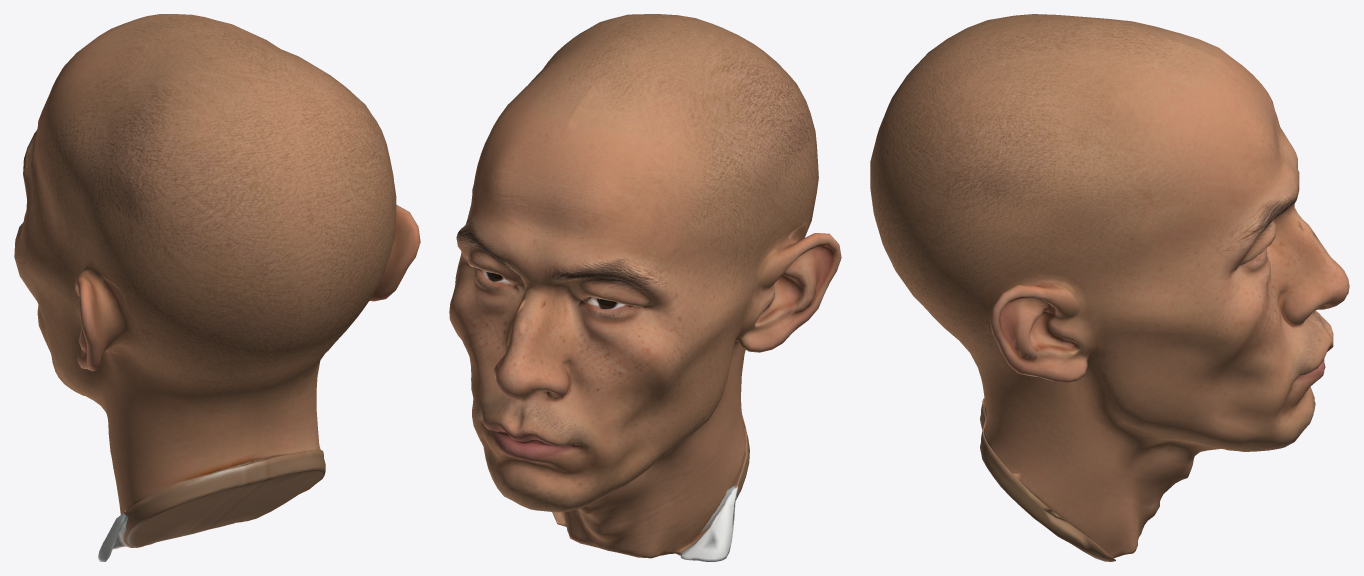
The model's file is Model_HairHead_HeYoutian.glb.
3 renders of one model, left to right at view 1: azimuth 30°, elevation 25°; view 2: azimuth 150°, elevation 25°; view 3: azimuth 270°, elevation 25°, orthographic. The views are drawn at different scales.
Visible parts, largest first — view 1: HairHead_HeYoutian; view 2: HairHead_HeYoutian; view 3: HairHead_HeYoutian.
Boxes of the visible parts, <box> form: HairHead_HeYoutian: <box>14,14,420,561</box>; HairHead_HeYoutian: <box>449,14,841,561</box>; HairHead_HeYoutian: <box>870,14,1349,561</box>.
Size of the model in its own units: 0.2127 by 0.3062 by 0.2618.
1 material, 1 textured.
